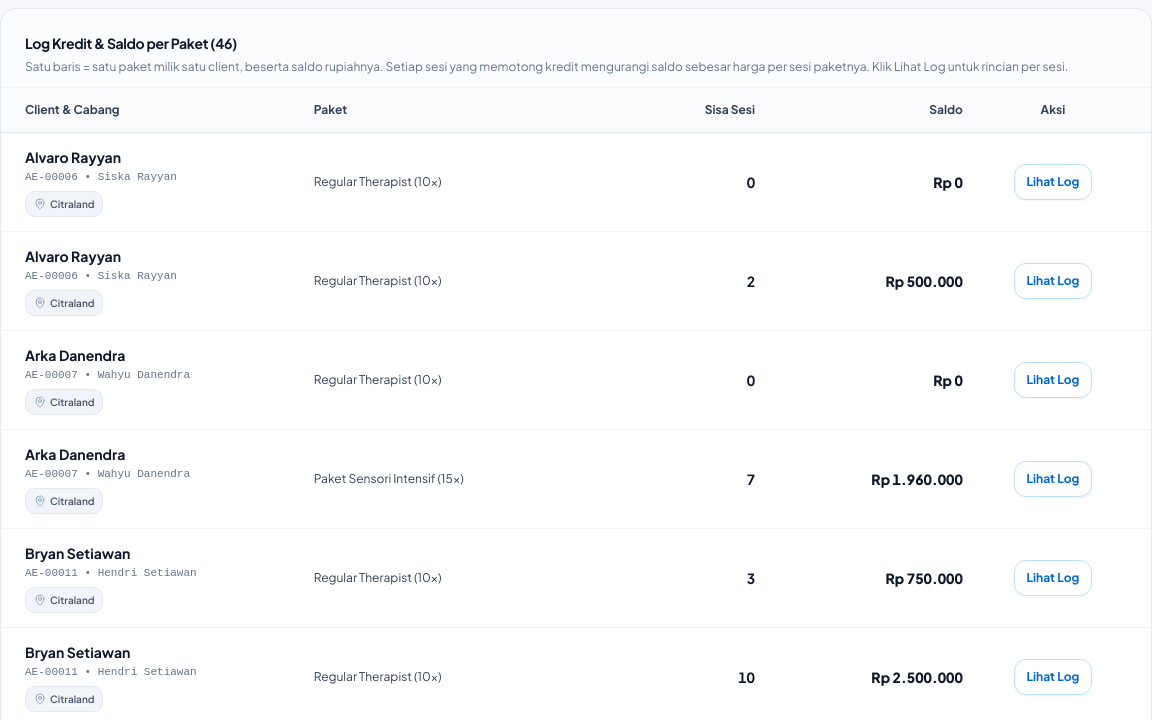
Test: daftar client punya tombol Lihat Log yang membuka laporan dengan kolom Per Sesi & Saldo
The image size is (1152, 720).
Step 1. Click the button with test id "ledger-open-" → x=1053, y=182, box [1014,164,1092,200]
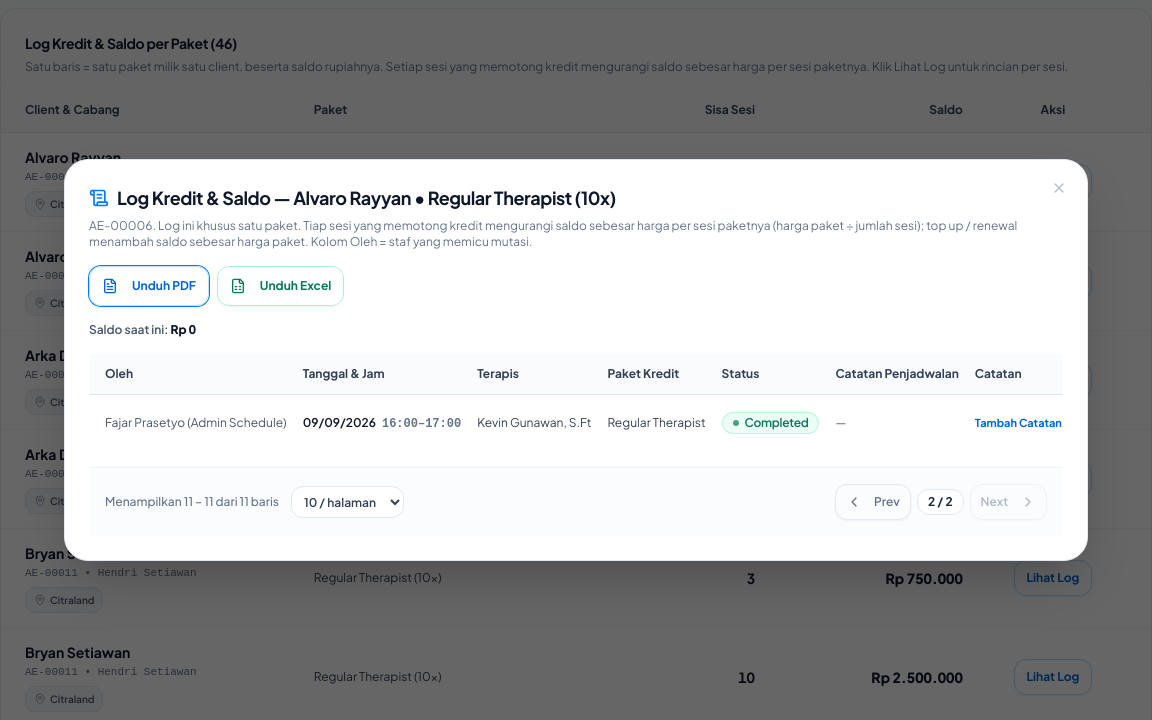
expect the dialog with test id "client-ledger-dialog" is shown: met, box [64,159,1088,561]
